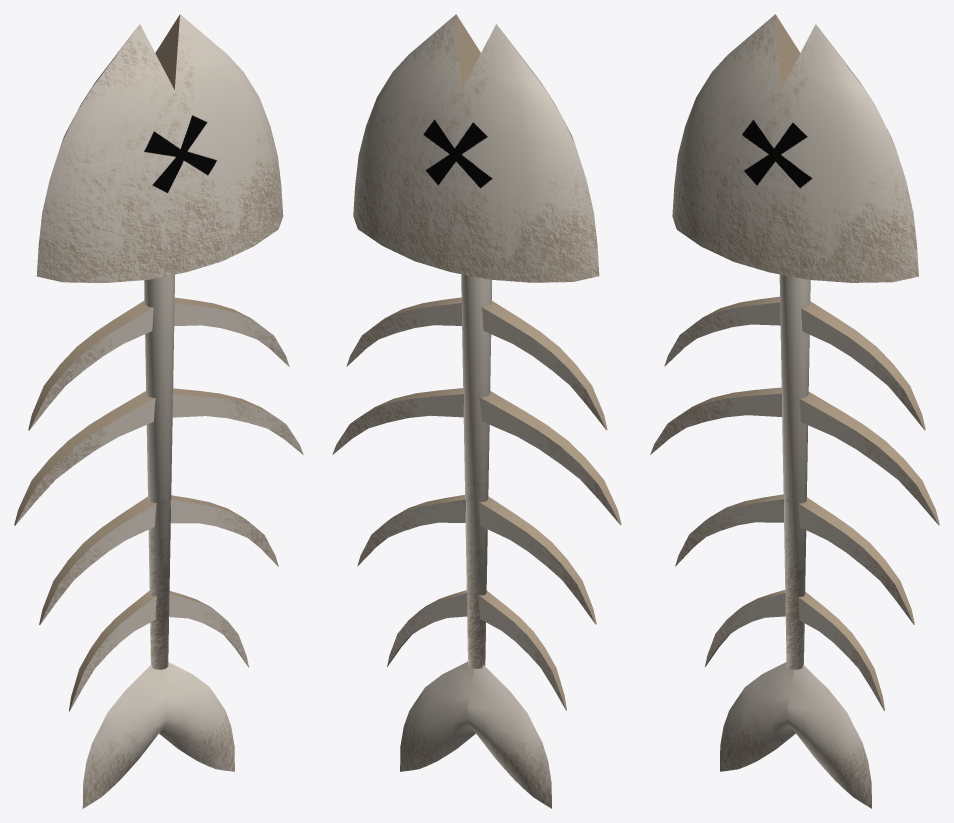
File: 생선뼈.fbx
The picture shows the model from 3 angles, left to right: view 1: azimuth 30°, elevation 25°; view 2: azimuth 150°, elevation 25°; view 3: azimuth 330°, elevation 25°; orthographic projection.
Parts seen in each view (by area): view 1: 생선뼈; view 2: 생선뼈; view 3: 생선뼈.
Part boxes in pixels (<box>): 생선뼈: <box>14,14,303,808</box>; 생선뼈: <box>332,14,621,808</box>; 생선뼈: <box>650,14,939,808</box>.
Size of the model in its own units: 180 by 460 by 57.47.
1 material, 1 textured.
